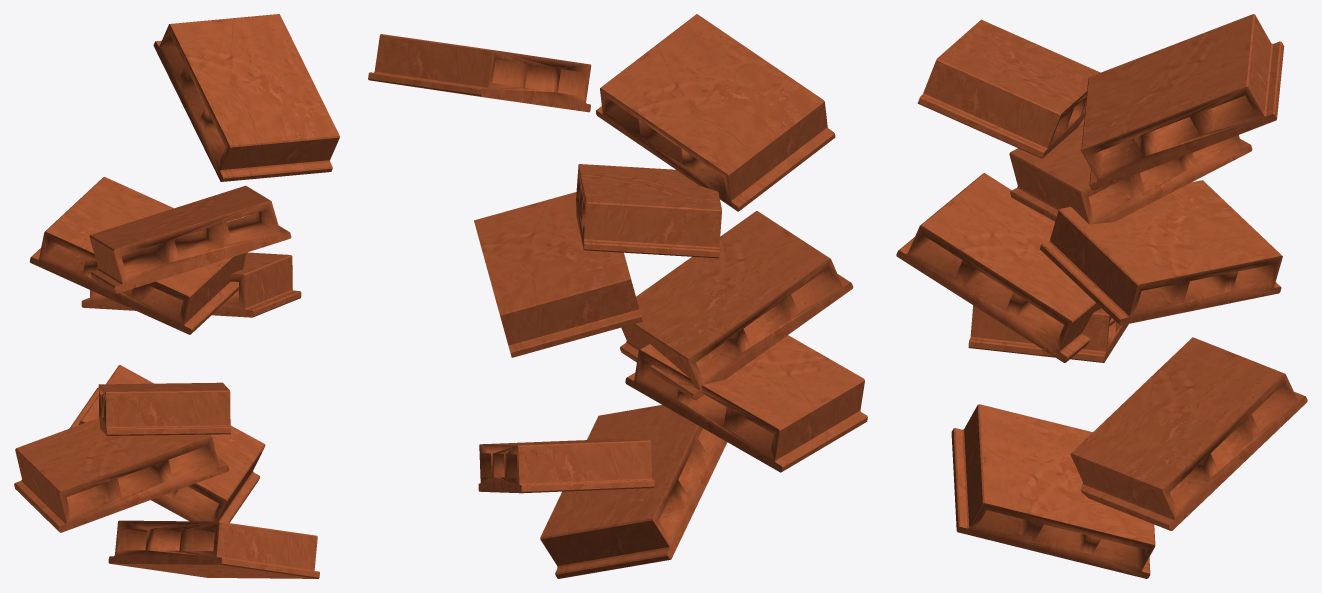
The model's file is EST-LAJ-004_anim.glb.
The picture shows the model from 3 angles, left to right: view 1: azimuth 30°, elevation 25°; view 2: azimuth 150°, elevation 25°; view 3: azimuth 270°, elevation 25°; orthographic projection. The views are drawn at different scales.
Parts seen in each view (by area): view 1: EST-LAJ-004_anim7, EST-LAJ-004_anim2, EST-LAJ-004_anim6, EST-LAJ-004_anim5, EST-LAJ-004_anim0, EST-LAJ-004_anim3, EST-LAJ-004_anim1, EST-LAJ-004_anim4; view 2: EST-LAJ-004_anim6, EST-LAJ-004_anim3, EST-LAJ-004_anim0, EST-LAJ-004_anim4, EST-LAJ-004_anim2, EST-LAJ-004_anim5, EST-LAJ-004_anim7, EST-LAJ-004_anim1; view 3: EST-LAJ-004_anim1, EST-LAJ-004_anim7, EST-LAJ-004_anim4, EST-LAJ-004_anim0, EST-LAJ-004_anim3, EST-LAJ-004_anim6, EST-LAJ-004_anim5, EST-LAJ-004_anim2.
Boxes of the visible parts, x1=… form: EST-LAJ-004_anim7: x1=153, y1=14, x2=339, y2=181; EST-LAJ-004_anim2: x1=14, y1=418, x2=228, y2=532; EST-LAJ-004_anim6: x1=89, y1=185, x2=291, y2=293; EST-LAJ-004_anim5: x1=29, y1=177, x2=246, y2=334; EST-LAJ-004_anim0: x1=108, y1=520, x2=319, y2=578; EST-LAJ-004_anim3: x1=98, y1=382, x2=230, y2=435; EST-LAJ-004_anim1: x1=69, y1=365, x2=265, y2=522; EST-LAJ-004_anim4: x1=81, y1=252, x2=301, y2=317; EST-LAJ-004_anim6: x1=596, y1=14, x2=835, y2=211; EST-LAJ-004_anim3: x1=620, y1=211, x2=853, y2=400; EST-LAJ-004_anim0: x1=540, y1=405, x2=727, y2=578; EST-LAJ-004_anim4: x1=474, y1=192, x2=642, y2=357; EST-LAJ-004_anim2: x1=625, y1=335, x2=867, y2=472; EST-LAJ-004_anim5: x1=576, y1=164, x2=721, y2=258; EST-LAJ-004_anim7: x1=368, y1=34, x2=591, y2=112; EST-LAJ-004_anim1: x1=478, y1=439, x2=654, y2=493; EST-LAJ-004_anim1: x1=1070, y1=337, x2=1307, y2=530; EST-LAJ-004_anim7: x1=1081, y1=14, x2=1284, y2=190; EST-LAJ-004_anim4: x1=1040, y1=180, x2=1282, y2=325; EST-LAJ-004_anim0: x1=951, y1=404, x2=1155, y2=578; EST-LAJ-004_anim3: x1=896, y1=173, x2=1115, y2=362; EST-LAJ-004_anim6: x1=917, y1=19, x2=1100, y2=158; EST-LAJ-004_anim5: x1=1009, y1=118, x2=1252, y2=224; EST-LAJ-004_anim2: x1=968, y1=305, x2=1128, y2=362.
Bounding box in the file's own units: 0.6194 × 0.9164 × 0.5986.
Materials: 1 (1 with a texture image).
